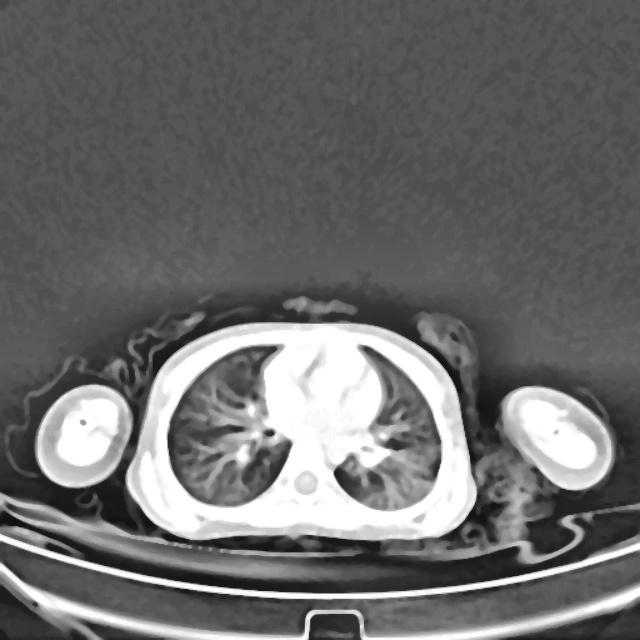covid: (124, 318, 478, 543)
